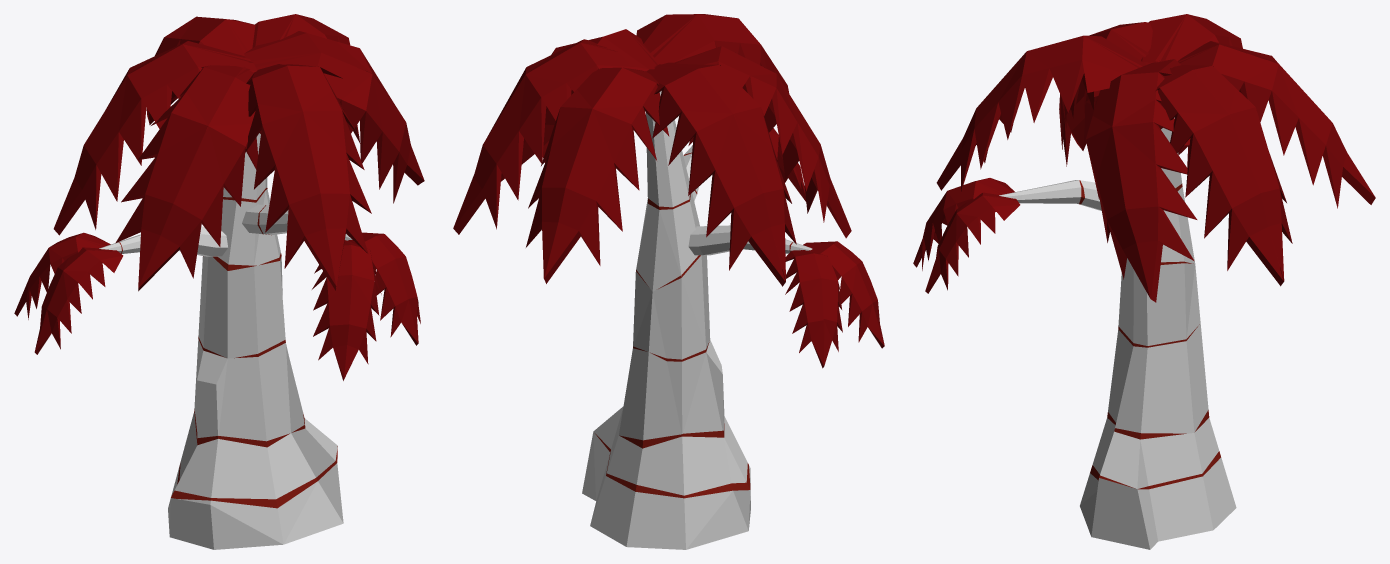
File: Factory_Tree_4.fbx
3 renders of one model, left to right at view 1: azimuth 30°, elevation 25°; view 2: azimuth 150°, elevation 25°; view 3: azimuth 270°, elevation 25°, orthographic.
Visible parts, largest first — view 1: Factory Tree 4; view 2: Factory Tree 4; view 3: Factory Tree 4.
Part boxes in pixels (x1=…): Factory Tree 4: x1=14, y1=14, x2=424, y2=549; Factory Tree 4: x1=453, y1=14, x2=884, y2=549; Factory Tree 4: x1=913, y1=14, x2=1375, y2=549.
Bounding box in the file's own units: 1813 × 2115 × 1867.
